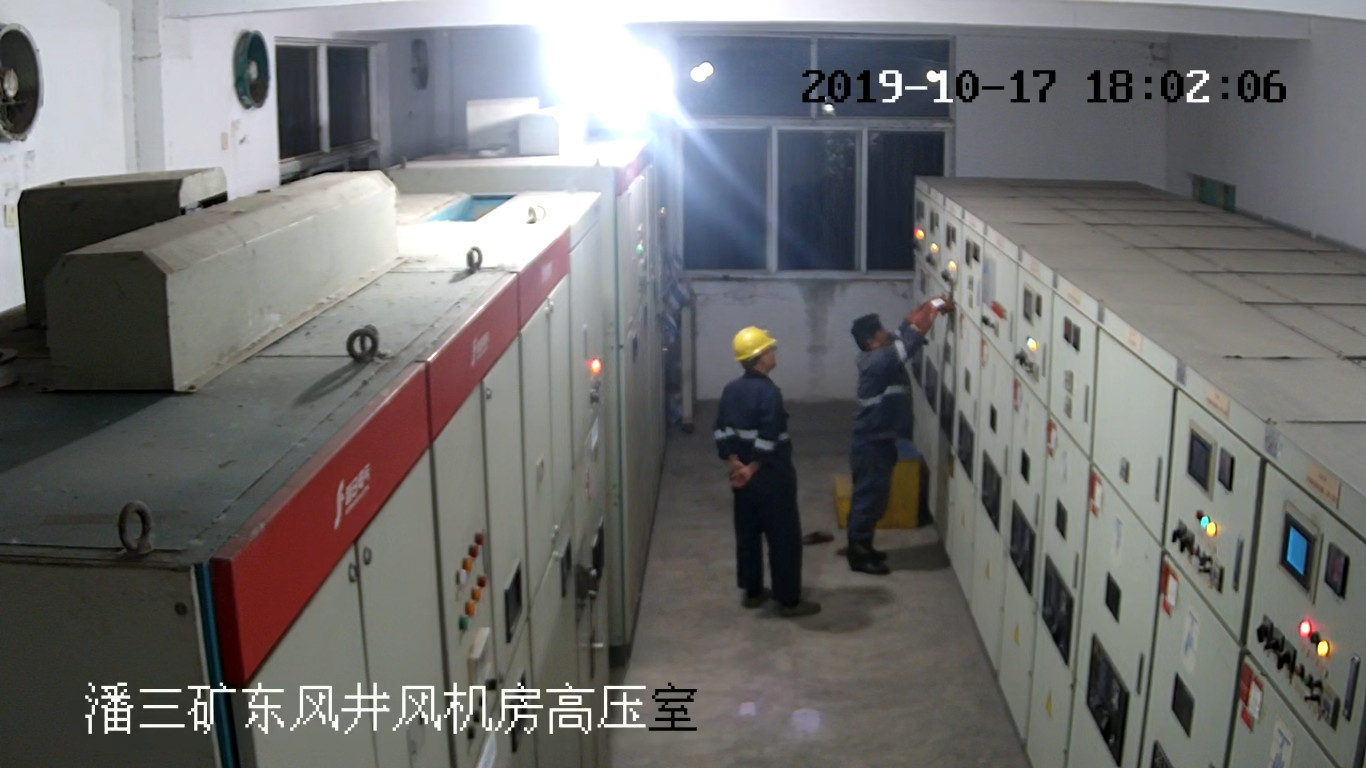helmet: (731, 325, 777, 363)
